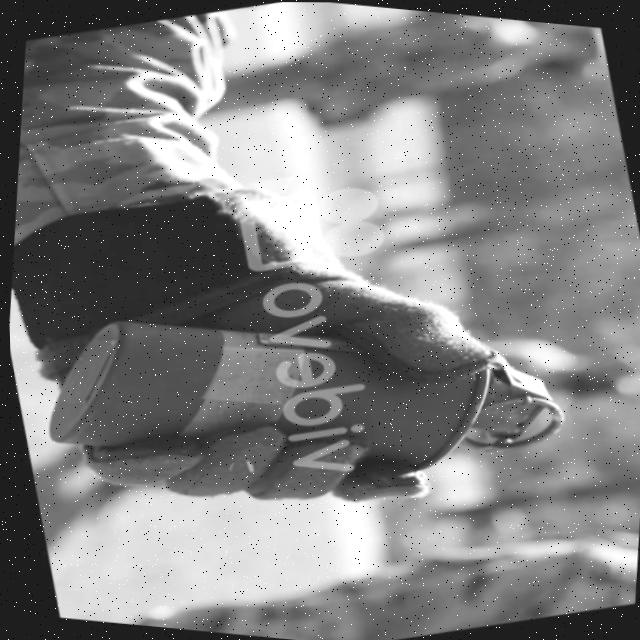grenade: (5, 204, 589, 585)
